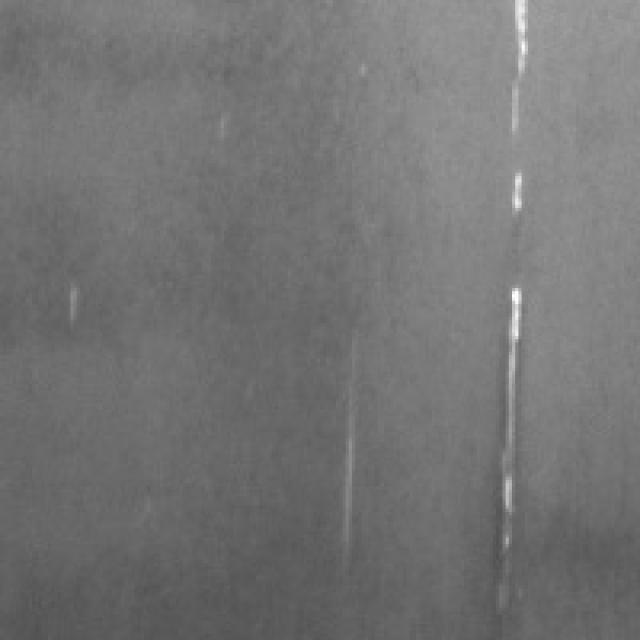scratches: (486, 275, 532, 560)
